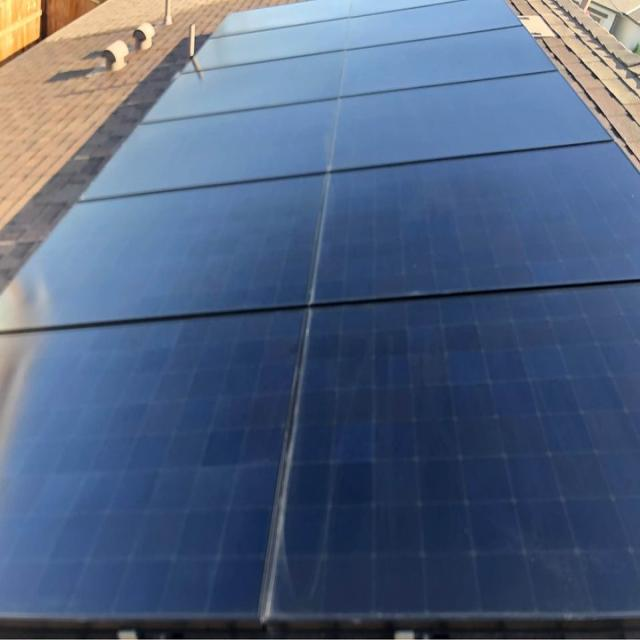clean-solar-panel: (1, 0, 640, 638)
